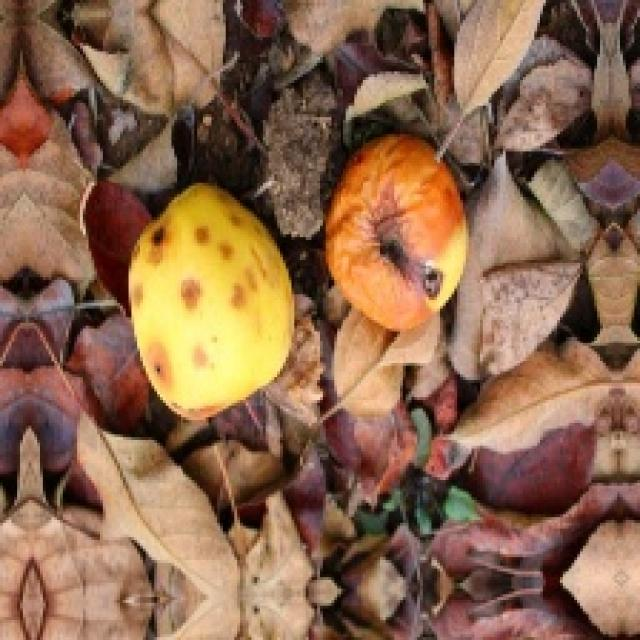rotten_apple: (133, 186, 294, 414), (332, 138, 464, 327)
